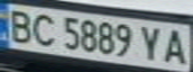5: (57, 15, 81, 52)
8: (78, 17, 100, 53), (97, 19, 118, 56)
9: (112, 20, 139, 58)
A: (160, 26, 193, 65)
B: (3, 7, 36, 44)
C: (27, 11, 60, 47)
Y: (136, 24, 166, 62)
